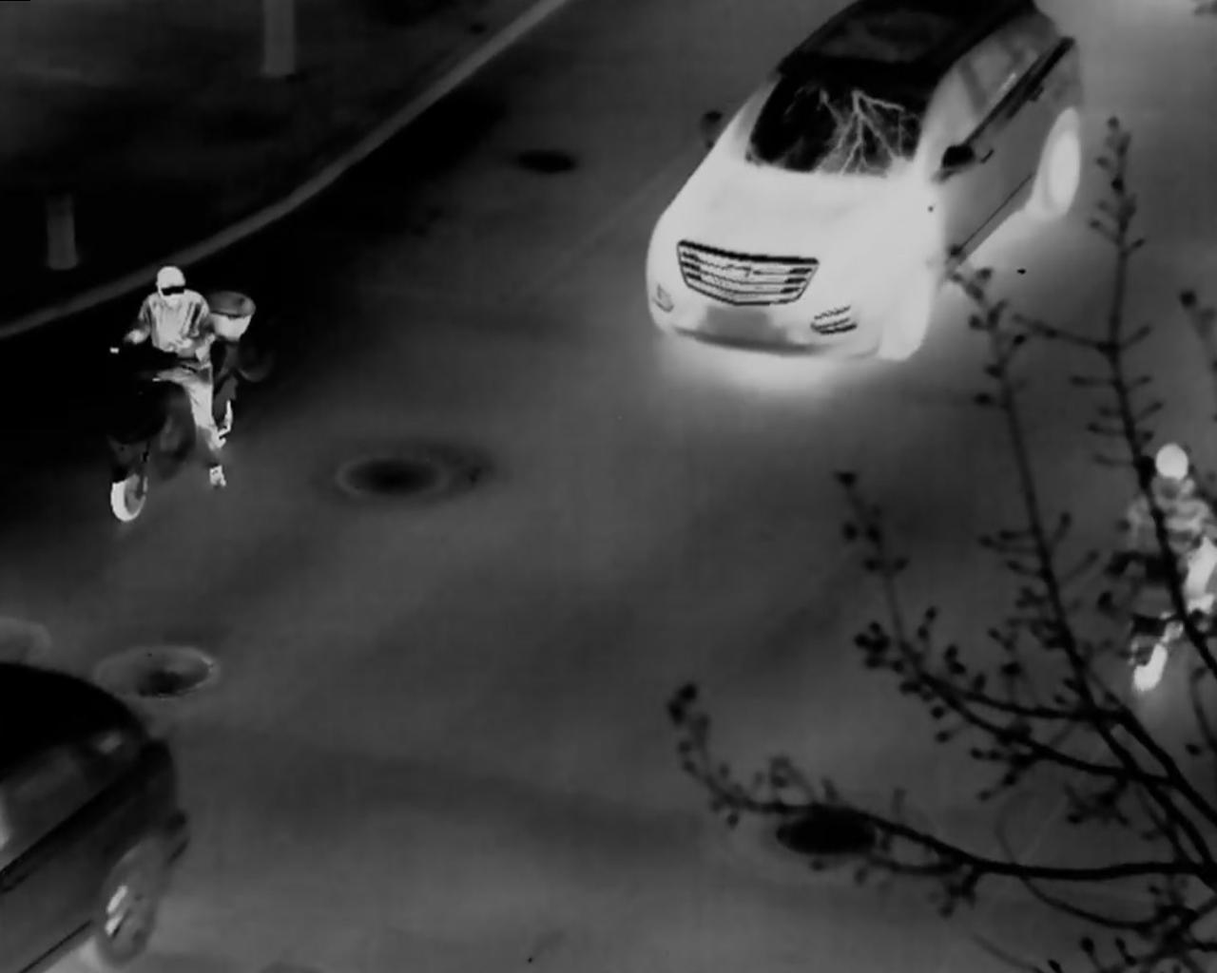person: (141, 251, 227, 473), (1143, 443, 1217, 668)
